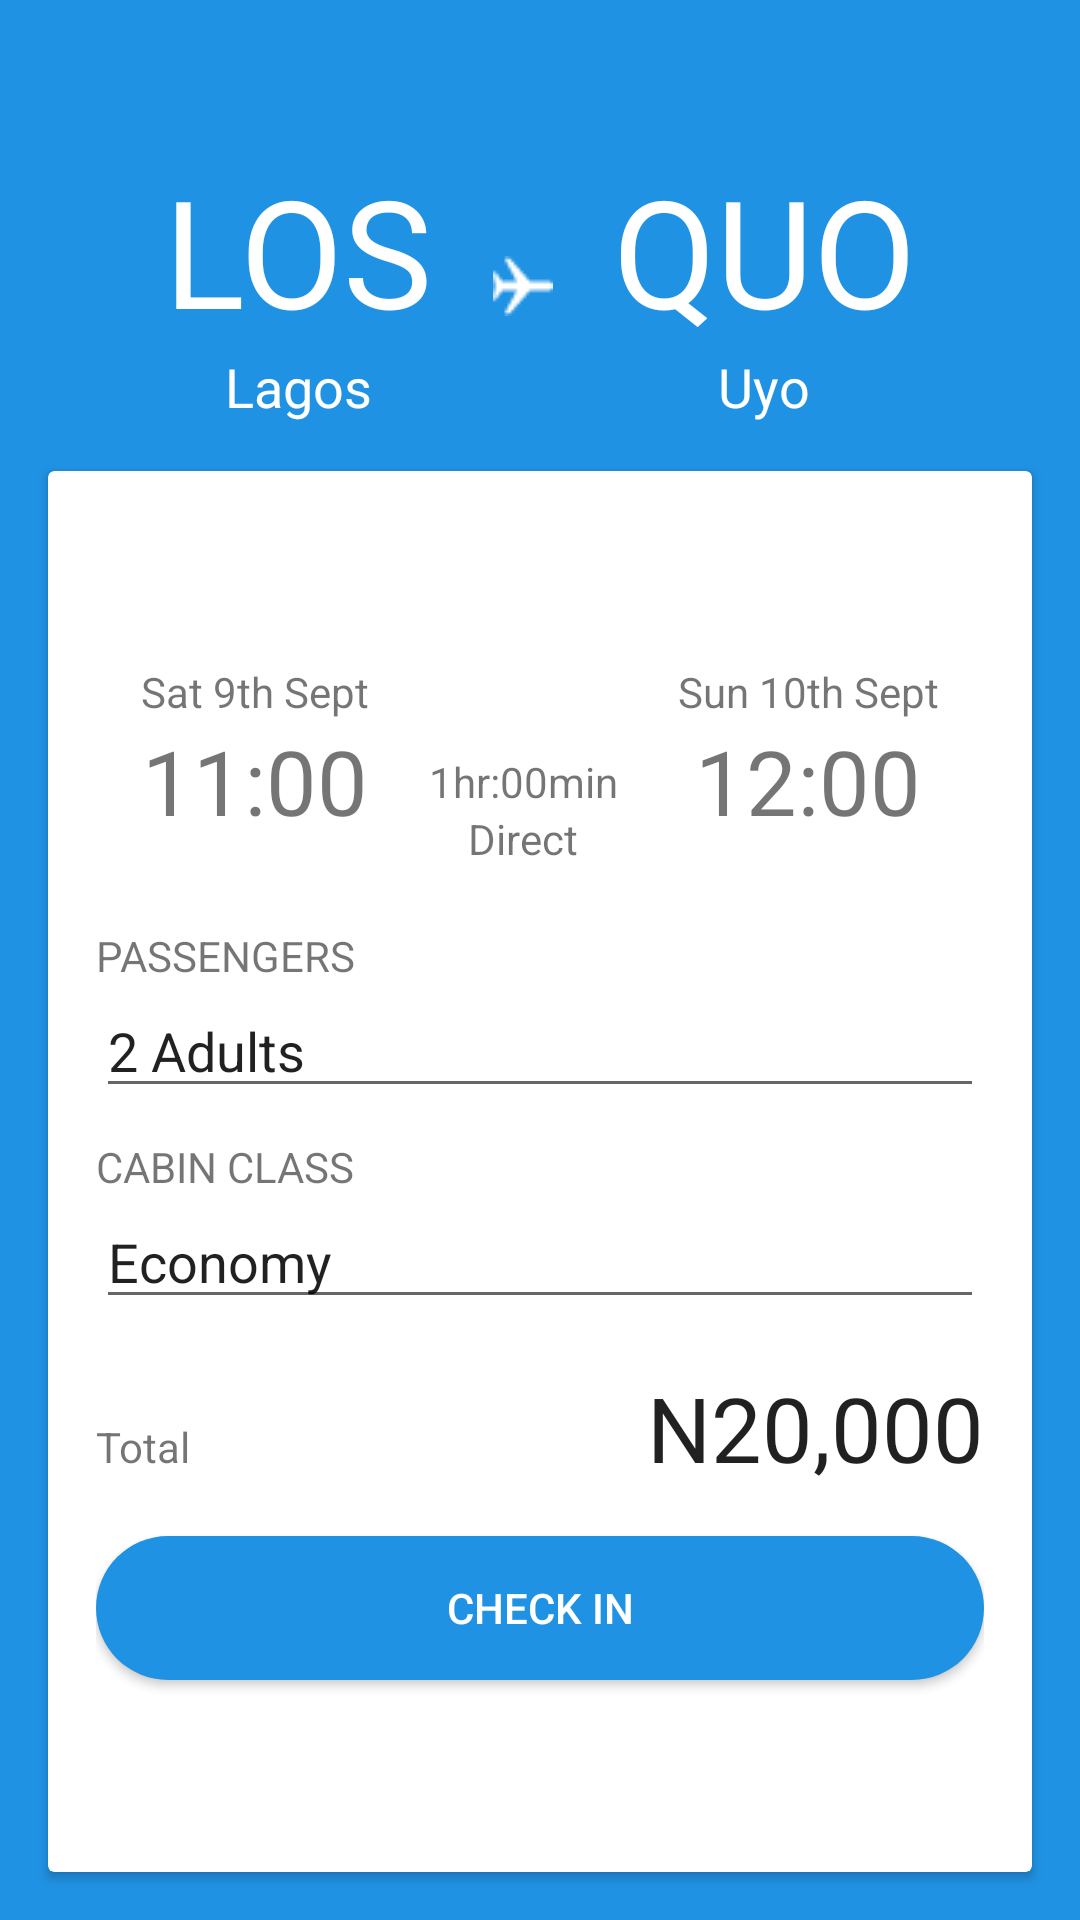

Screen size 1080w x 1920h. Icon name, then its box in pixels as (x1, y1, x2, y2):
airplane: (493, 256, 553, 316)
